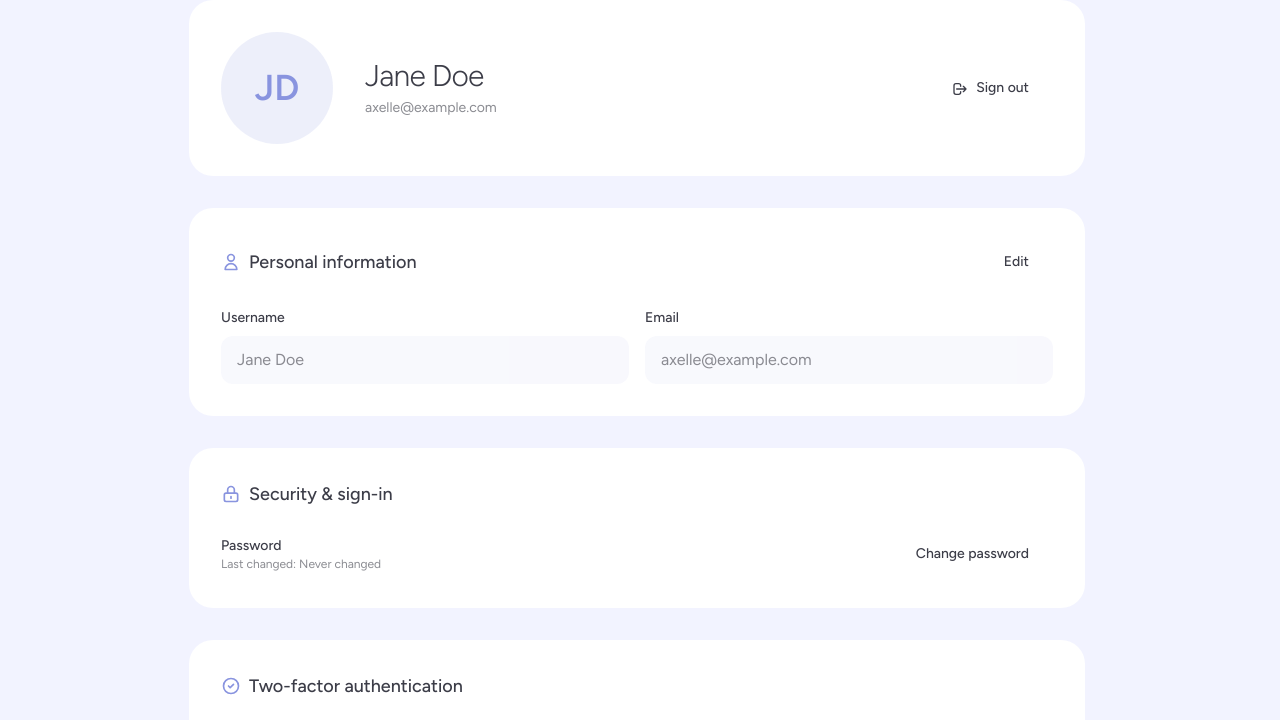
Test: Profile › switches to edit mode (editable fields + Save button)
The image size is (1280, 720).
Expected: the field showing "Jane Doe" is disabled, [221,336,629,384]
Click the button "Edit" at (1016, 262), box [980,240,1053,284]
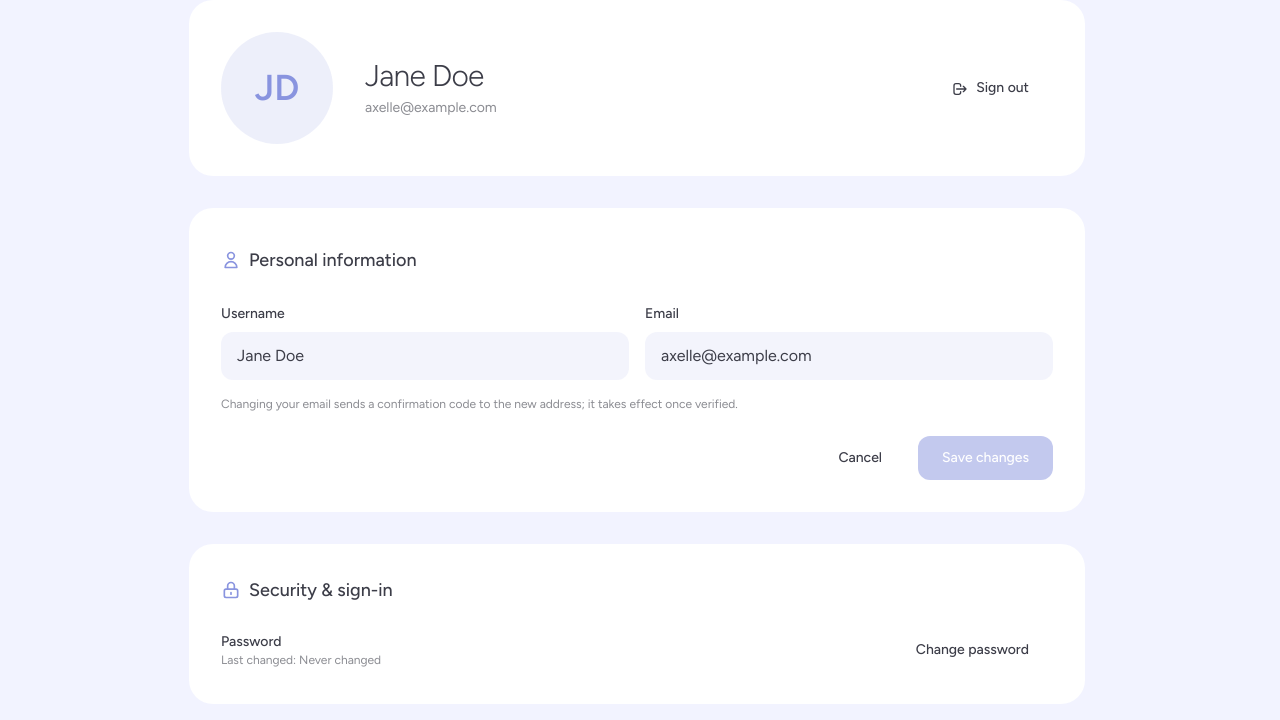
Expected: the button "Save changes" is shown, [918,436,1053,480]
Expected: the field showing "Jane Doe" is enabled, [221,332,629,380]
